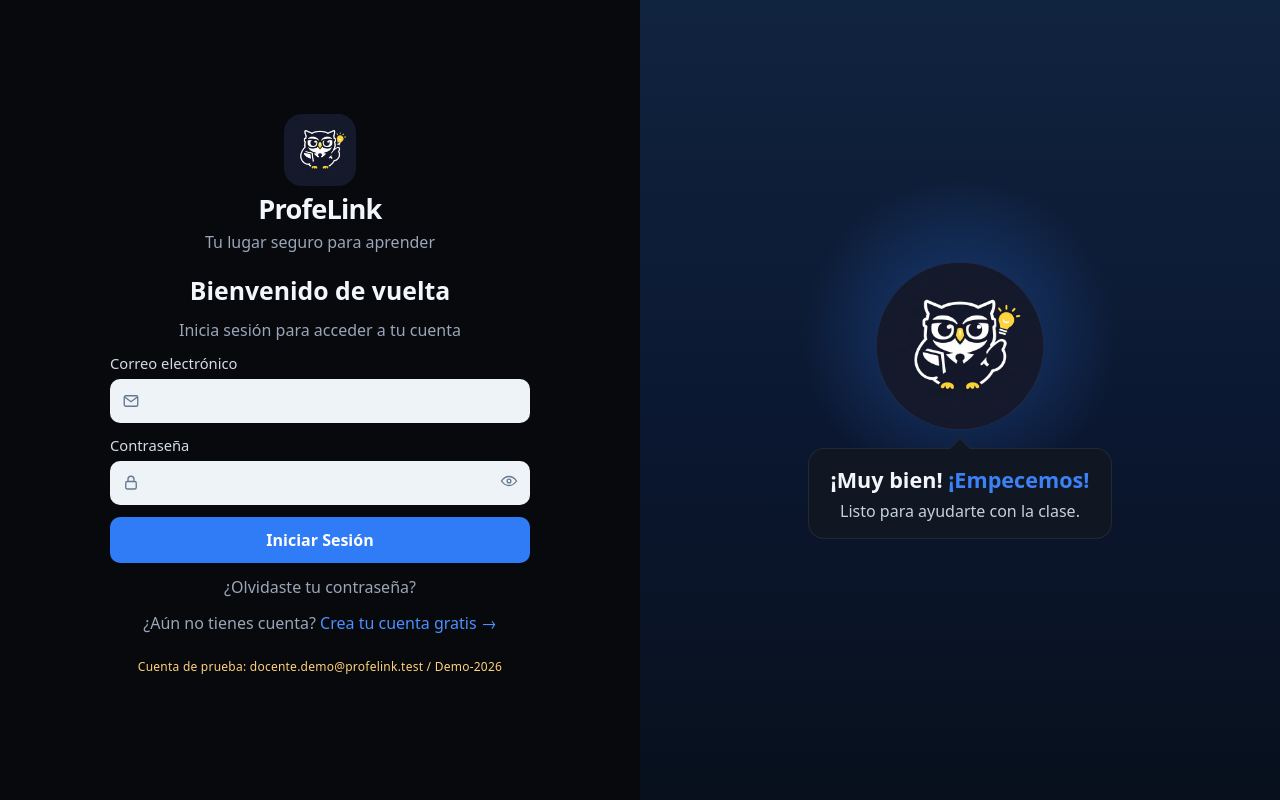
Test: acceso › exige datos válidos antes de iniciar sesión
This screenshot has width=1280, height=800.
Click the button "Iniciar Sesión".
click(320, 540)  # box [110,516,530,562]
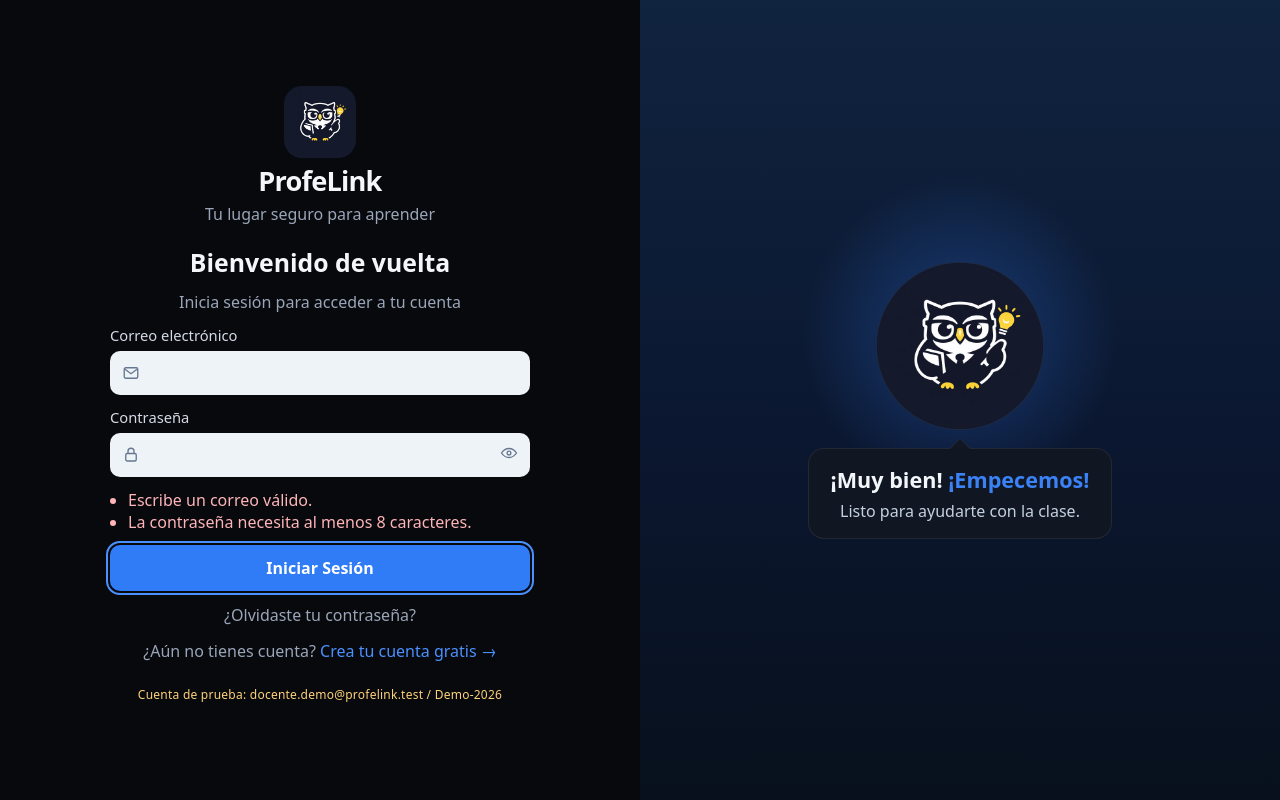
Result: the list item "Escribe un correo válido." is shown at [128,488,312,510]
